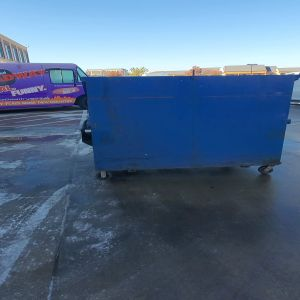Dumpster: (80, 76, 296, 181)
